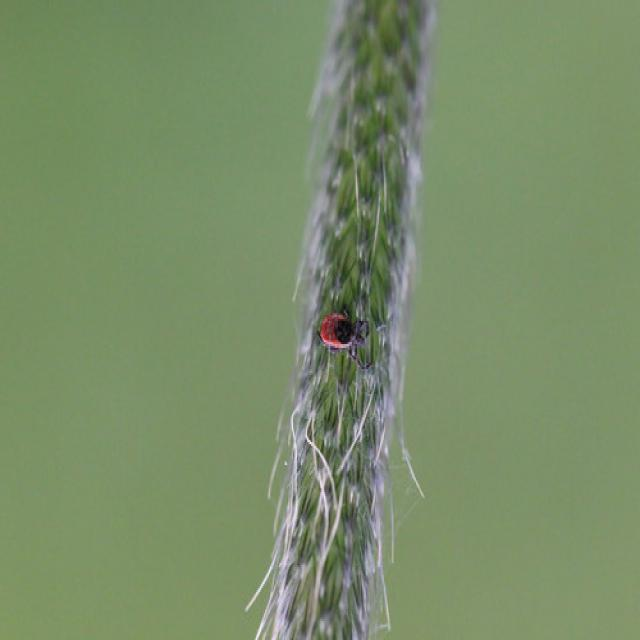Ixodes Ricinus-F: (316, 306, 374, 377)
